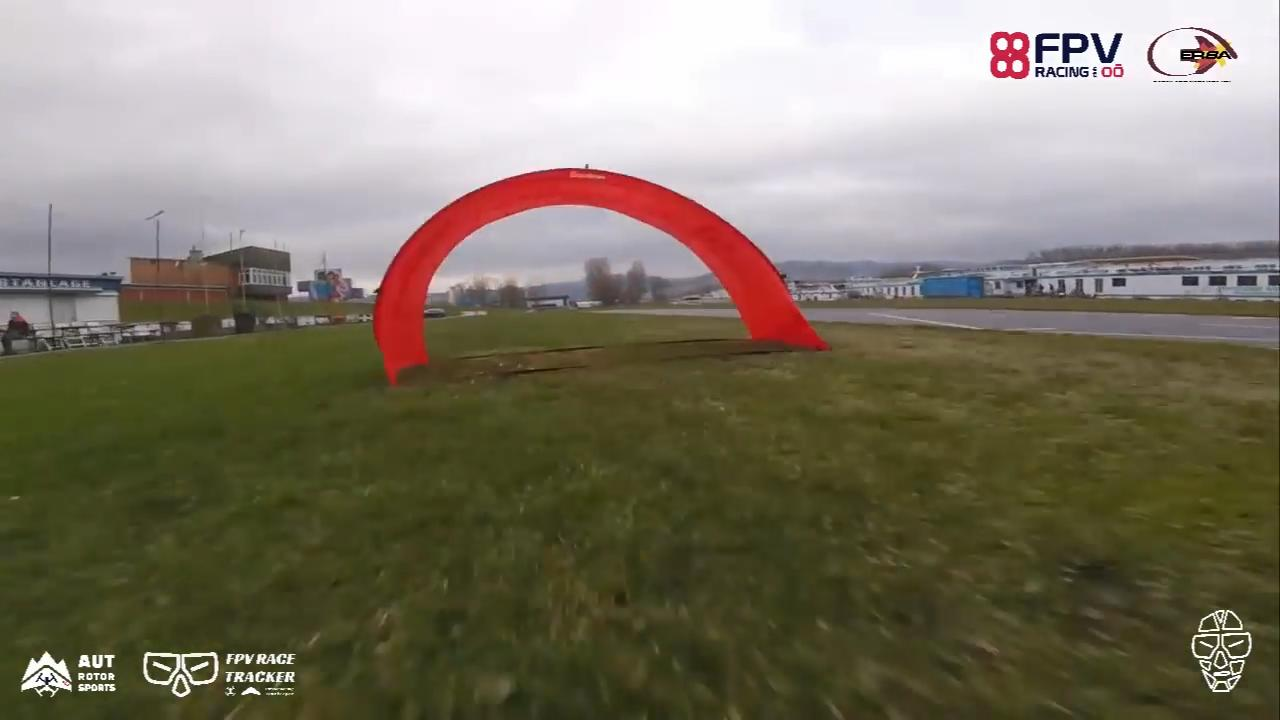gate: (363, 160, 836, 388)
